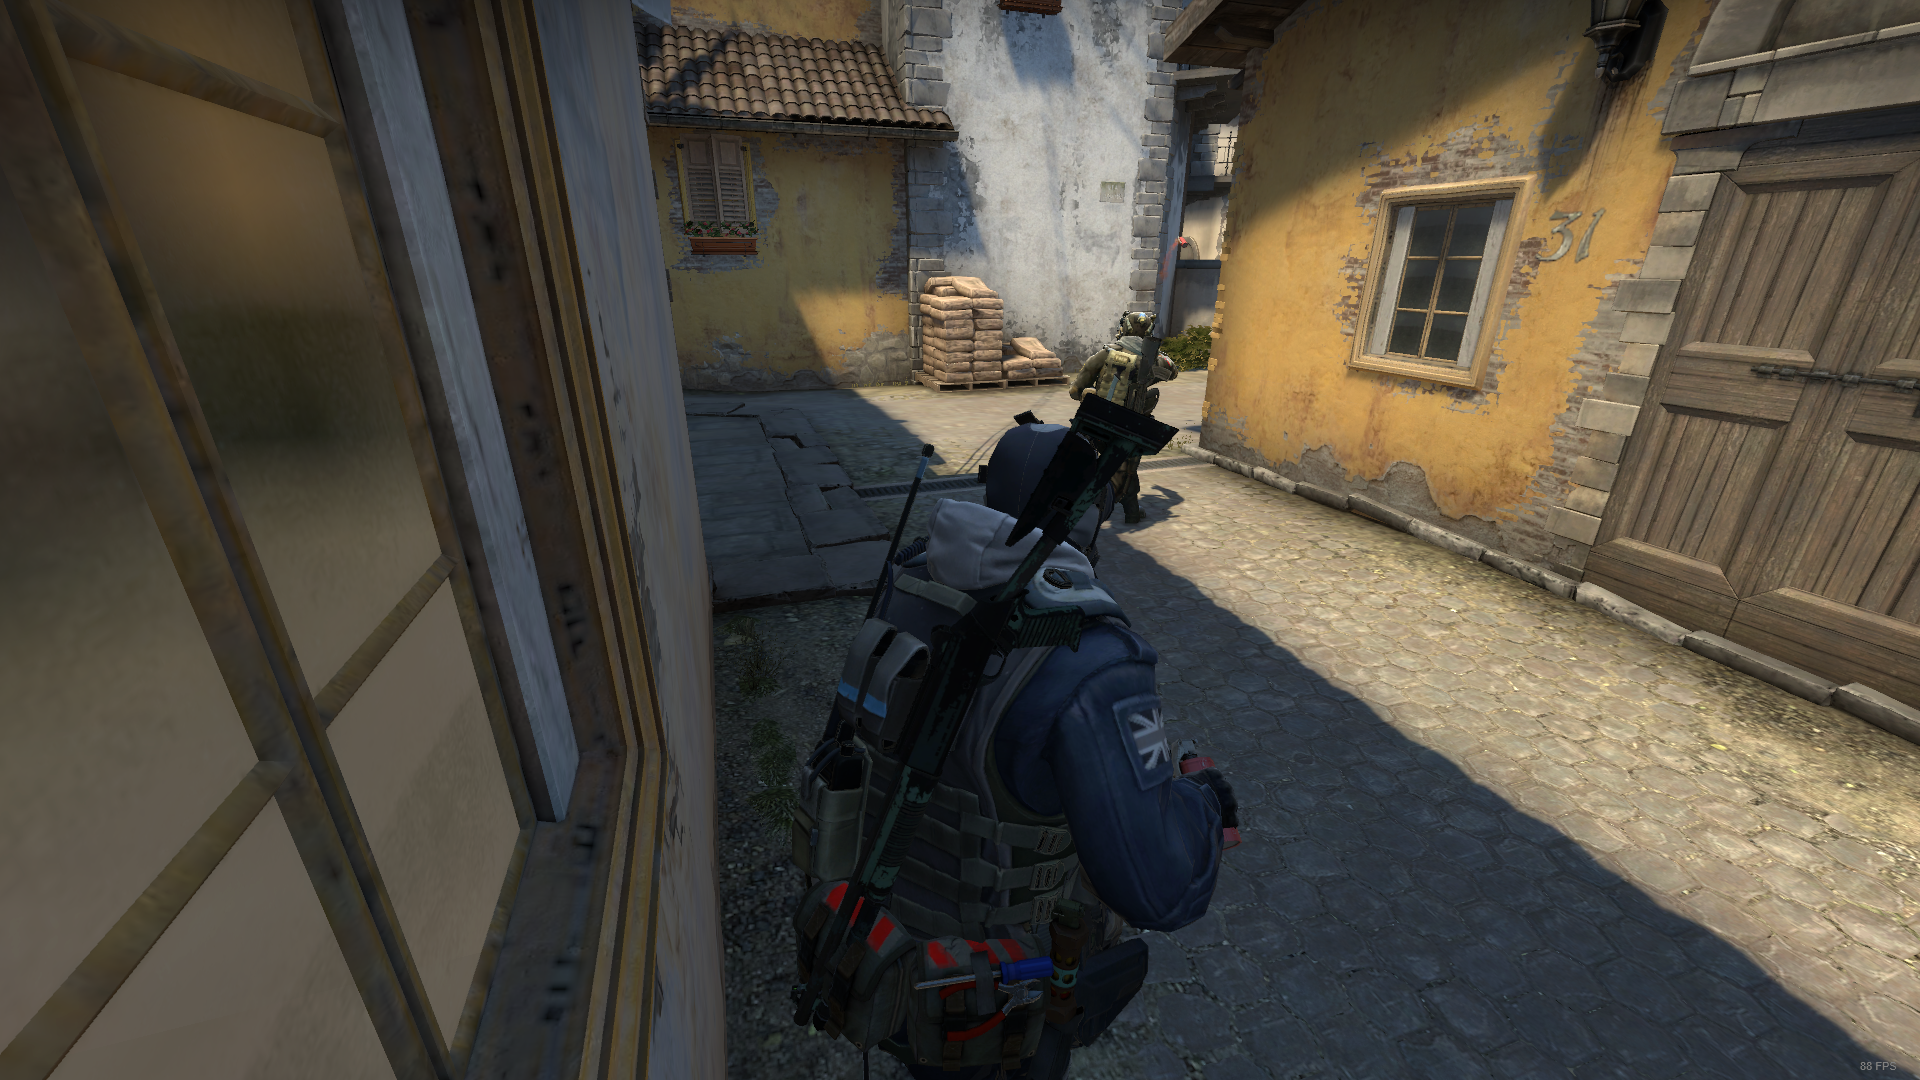ct: (793, 421, 1238, 1080)
